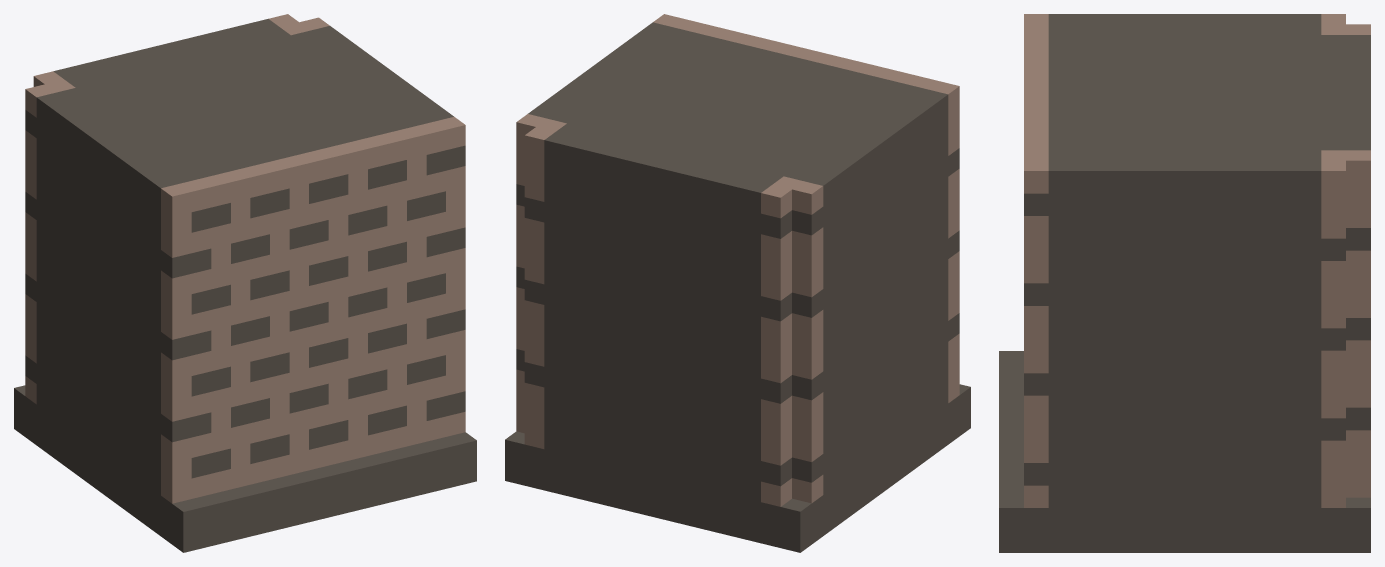
The model's file is dungeon_a_b_inner_wall_segment_b.obj.
3 renders of one model, left to right at view 1: azimuth 30°, elevation 25°; view 2: azimuth 150°, elevation 25°; view 3: azimuth 270°, elevation 25°, orthographic. The views are drawn at different scales.
Size of the model in its own units: 1.5 by 1.7 by 1.5.
Materials: 1 (1 with a texture image).
